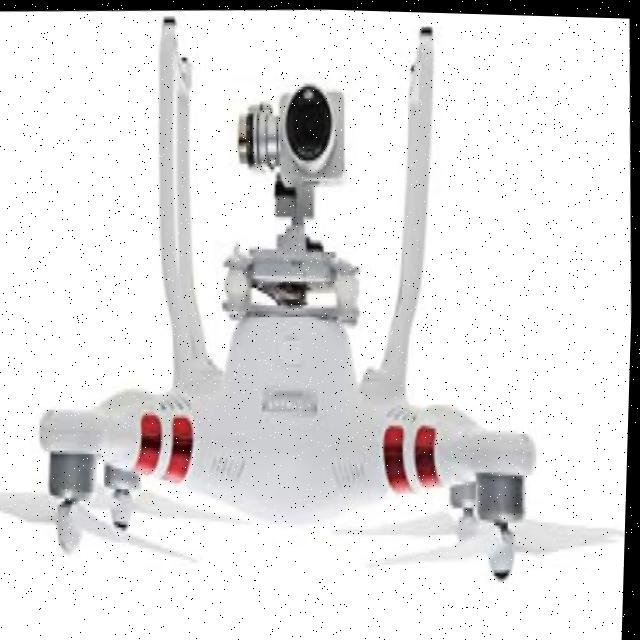drones: (0, 0, 640, 623)
